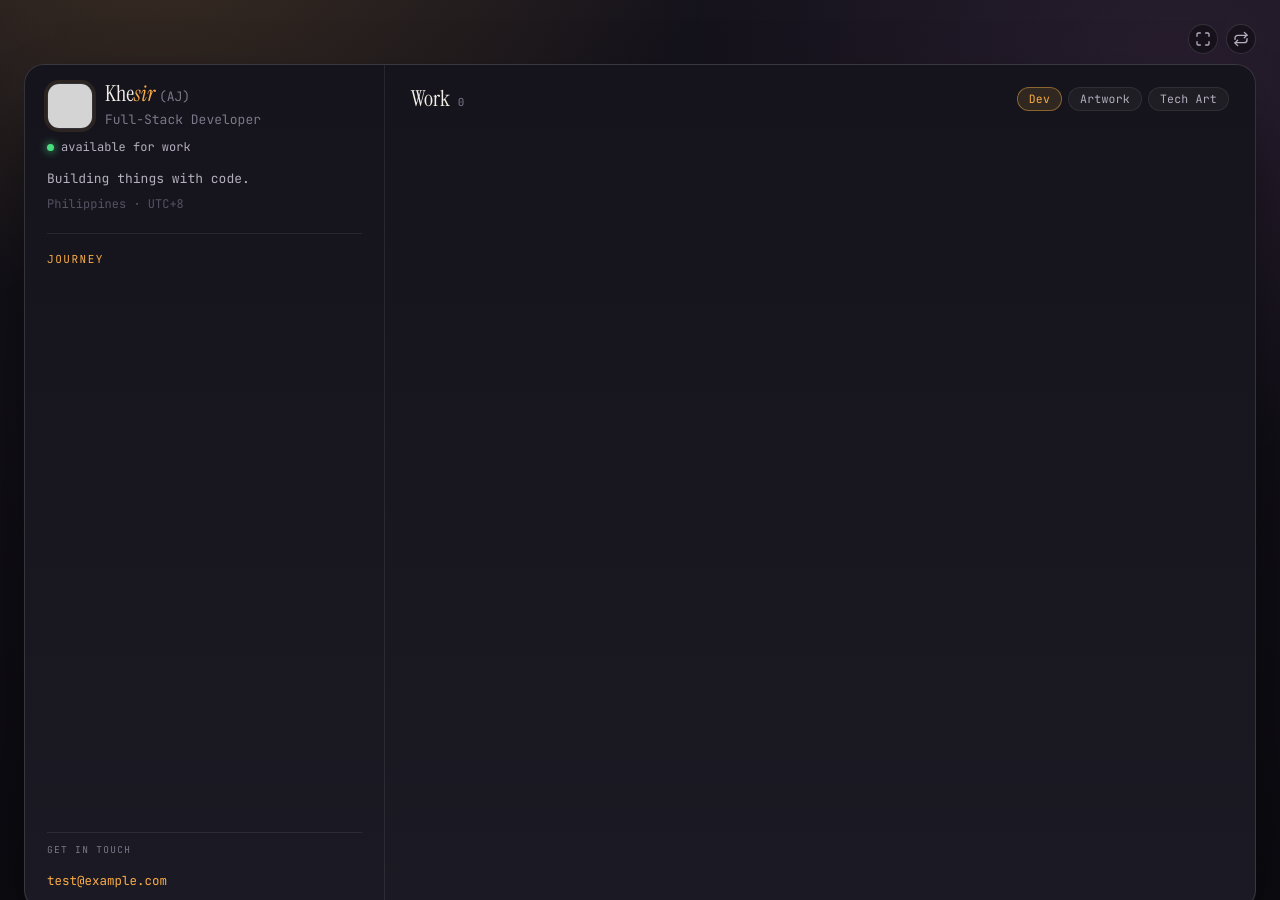
TerminalDashboardPage › flip card › disables the flip toggle while fullscreen is active
Expected: the button named "Show back of card" is enabled, [1226,24,1256,54]
Click the button named "Enter fullscreen" at (1203, 39), box [1188,24,1218,54]
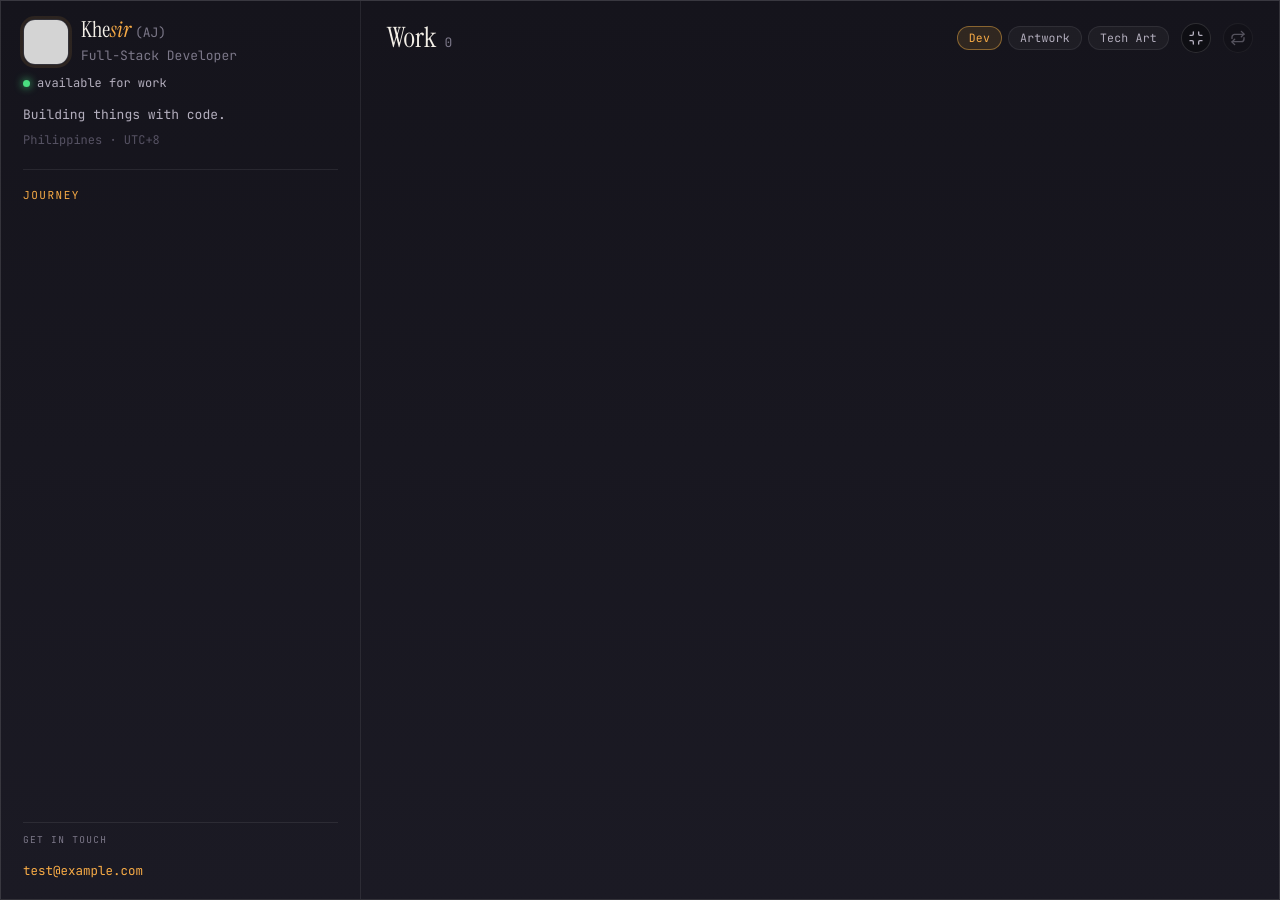
Expected: the button named "Show back of card" is disabled, [1223,23,1253,53]
